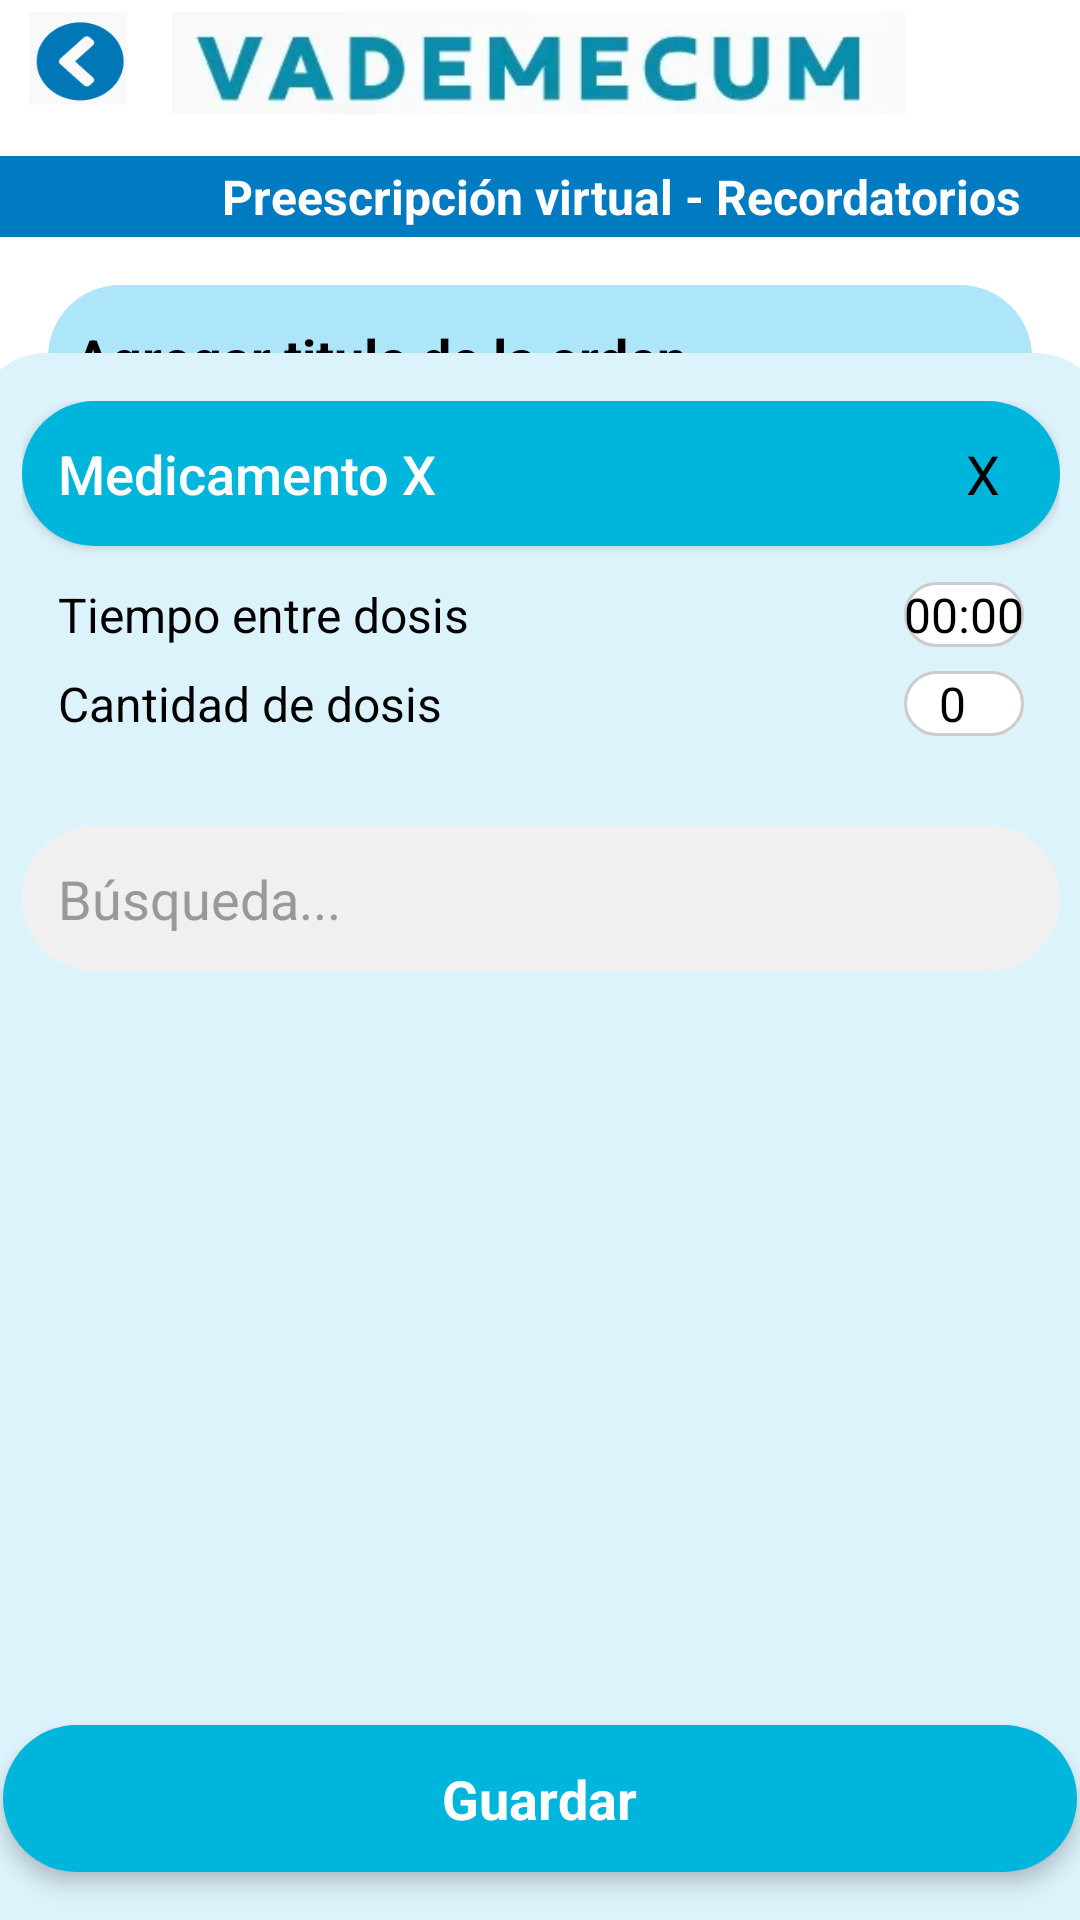

Point at icon controls on the screen. Image size 1080px×1920px, points as point (x, y).
imgatras: point (80, 61)
